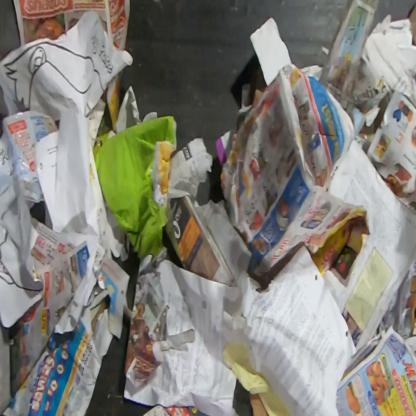cardboard: (95, 116, 177, 259), (93, 117, 116, 163), (405, 273, 415, 333), (248, 392, 269, 415)
soft_plastic: (0, 0, 23, 144)
